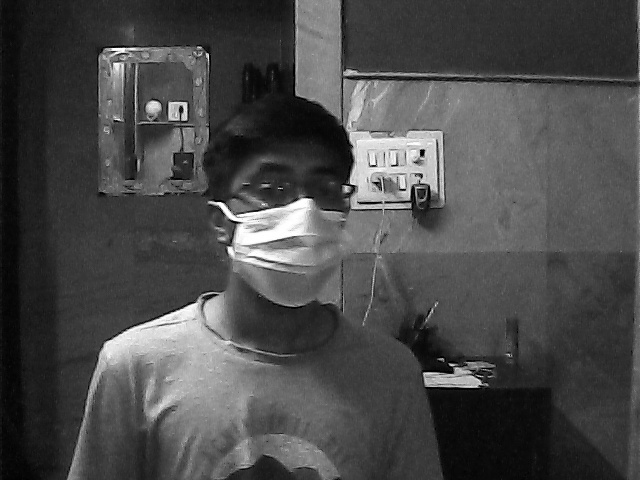mask: (212, 151, 350, 314)
